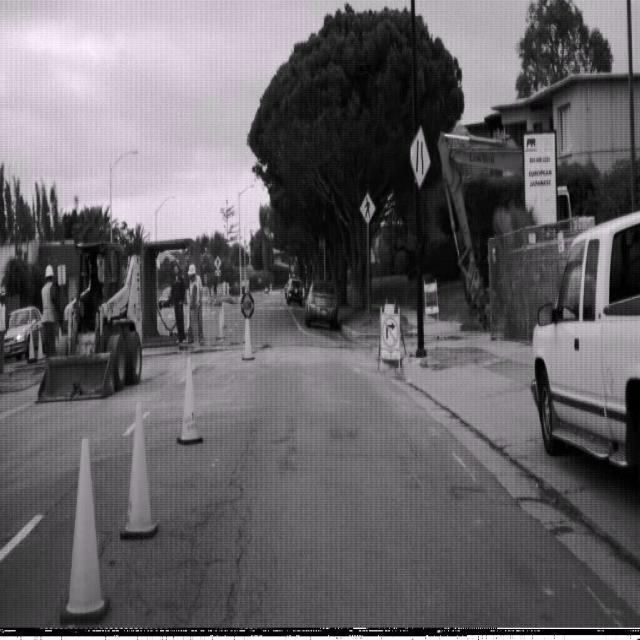pedestrianCrossing: (358, 191, 376, 226)
